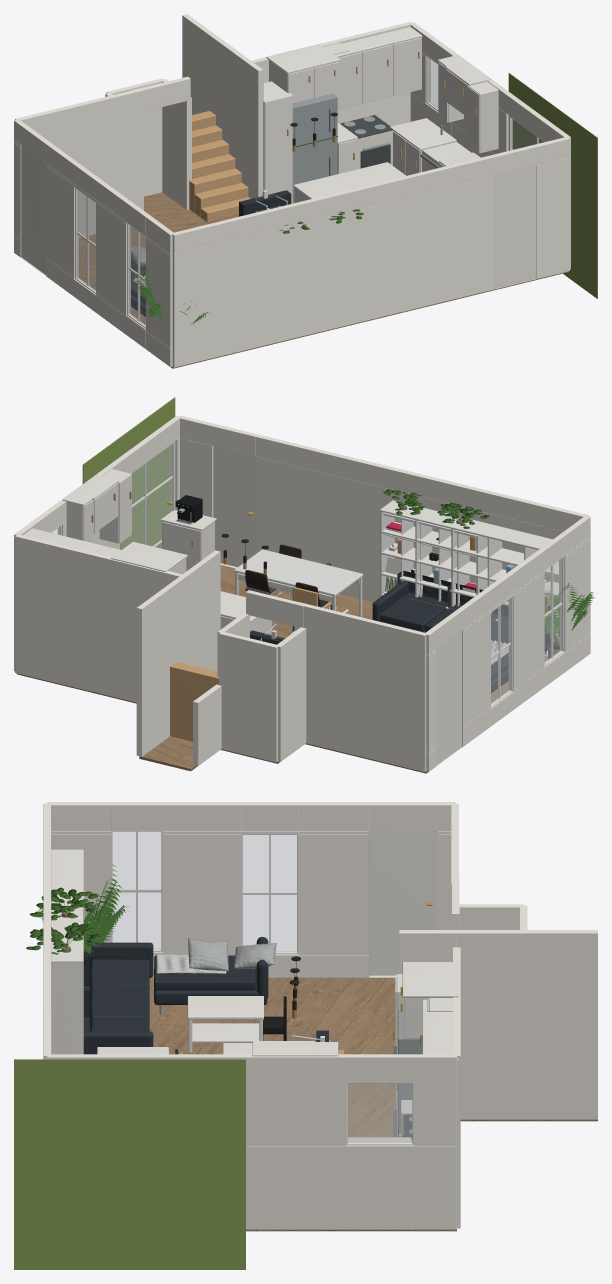
3 views of the same model, one above another, from view 1: azimuth 30°, elevation 25°; view 2: azimuth 150°, elevation 25°; view 3: azimuth 270°, elevation 25° (orthographic). The views are drawn at different scales.
Parts seen in each view (by area): view 1: wall_8_segment.006, wall_11_segment, wall_8_segment.007, inferred_outdoor_brightness, wall_3_segment, door_panel.002, wall_8_segment.001, wall_2_segment, home-downstairs__refrigerator_24__body, measured_floor_polygon, wall_5_segment, door_panel (+52 smaller); view 2: wall_1_segment, wall_11_segment, wall_8_segment.006, wall_3_segment, wall_8_segment.007, wall_4_segment, inferred_outdoor_brightness, door_panel.002, measured_floor_polygon, wall_9_segment, wall_0_segment.015, observed_glazed_patio_panel (+45 smaller); view 3: inferred_outdoor_brightness, wall_3_segment, measured_floor_polygon, wall_0_segment.015, wall_0_segment.027, wall_7_segment.007, door_panel, wall_7_segment.008, wall_7_segment.004, glass.001, glass, glass.002 (+40 smaller).
Part boxes in pixels (box(x1,y1,x2,y2)): wall_8_segment.006: box(172, 176, 493, 367); wall_11_segment: box(15, 88, 143, 237); wall_8_segment.007: box(172, 155, 493, 254); inferred_outdoor_brightness: box(508, 73, 597, 298); wall_3_segment: box(182, 14, 240, 168); door_panel.002: box(494, 166, 535, 288); wall_8_segment.001: box(536, 158, 569, 278); wall_2_segment: box(236, 53, 263, 198); home-downstairs__refrigerator_24__body: box(292, 94, 337, 203); measured_floor_polygon: box(79, 192, 568, 368); wall_5_segment: box(161, 79, 191, 209); door_panel: box(21, 145, 46, 275); wall_1_segment: box(15, 535, 181, 702); wall_11_segment: box(294, 601, 426, 771); wall_8_segment.006: box(256, 456, 562, 641); wall_3_segment: box(136, 567, 197, 756); wall_8_segment.007: box(256, 434, 589, 531); wall_4_segment: box(219, 632, 278, 762); inferred_outdoor_brightness: box(82, 397, 175, 549); door_panel.002: box(213, 446, 255, 567); measured_floor_polygon: box(16, 565, 547, 773); wall_9_segment: box(277, 627, 306, 761); wall_0_segment.015: box(508, 574, 544, 689); observed_glazed_patio_panel: box(120, 445, 172, 549); inferred_outdoor_brightness: box(14, 1059, 245, 1269); wall_3_segment: box(457, 930, 597, 1119); measured_floor_polygon: box(149, 977, 597, 1231); wall_0_segment.015: box(163, 834, 241, 952); wall_0_segment.027: box(298, 834, 369, 952); wall_7_segment.007: box(246, 1146, 346, 1229); door_panel: box(369, 830, 437, 975); wall_7_segment.008: box(246, 1083, 346, 1145); wall_7_segment.004: box(346, 1145, 413, 1229); glass.001: box(243, 835, 296, 951); glass: box(113, 832, 160, 949); glass.002: box(348, 1084, 411, 1142).
Bounding box in the file's own units: 8.43 × 3.11 × 7.55.
46 materials, 1 textured.
